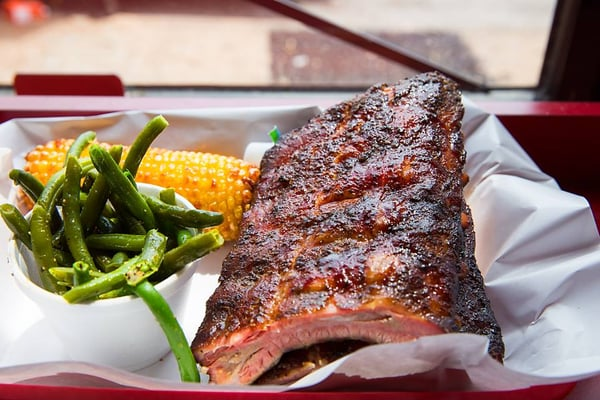soup: (189, 74, 507, 383), (0, 113, 261, 383)
